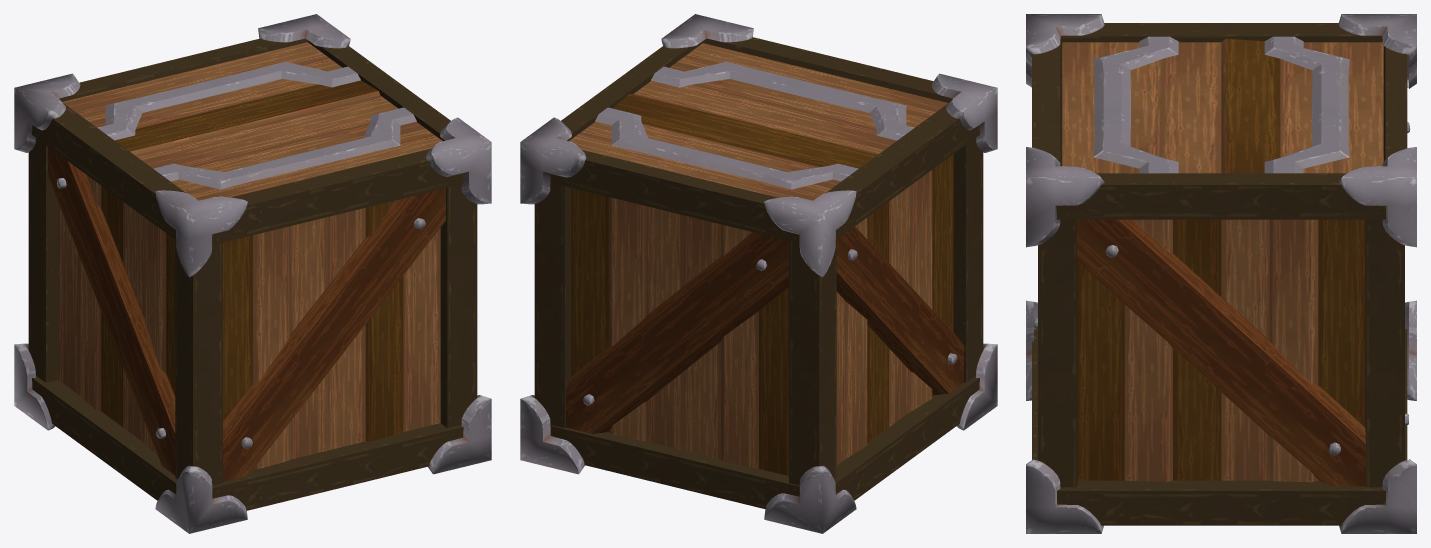
Rendered from crate-metal.glb.
3 views of the same model, side by side, from view 1: azimuth 30°, elevation 25°; view 2: azimuth 150°, elevation 25°; view 3: azimuth 270°, elevation 25° (orthographic). The views are drawn at different scales.
Parts seen in each view (by area): view 1: Crate_Metal; view 2: Crate_Metal; view 3: Crate_Metal.
Boxes of the visible parts, <box> form: Crate_Metal: <box>14,14,491,533</box>; Crate_Metal: <box>520,14,997,533</box>; Crate_Metal: <box>1026,14,1416,533</box>.
Bounding box in the file's own units: 0.8639 × 0.8679 × 0.8659.
Materials: 2 (2 with a texture image).
